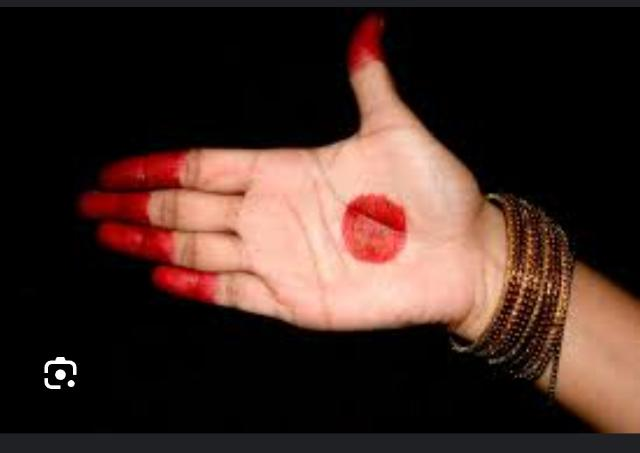ardhachandra: (37, 6, 596, 354)
